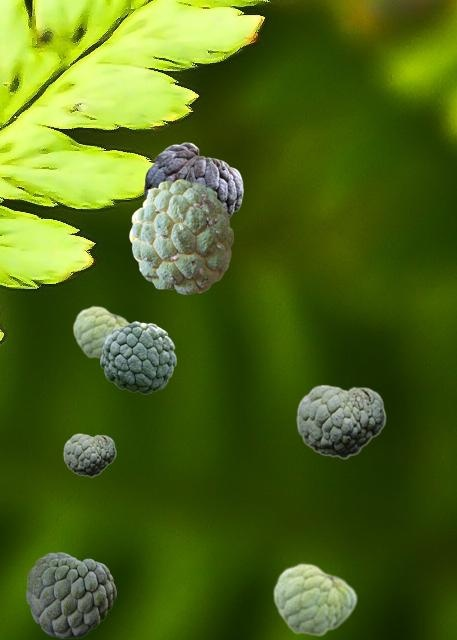atis: (129, 179, 232, 293), (26, 552, 115, 637), (144, 142, 242, 217), (296, 384, 385, 458), (272, 562, 356, 636), (100, 321, 175, 393), (72, 305, 130, 359), (63, 433, 115, 476)
